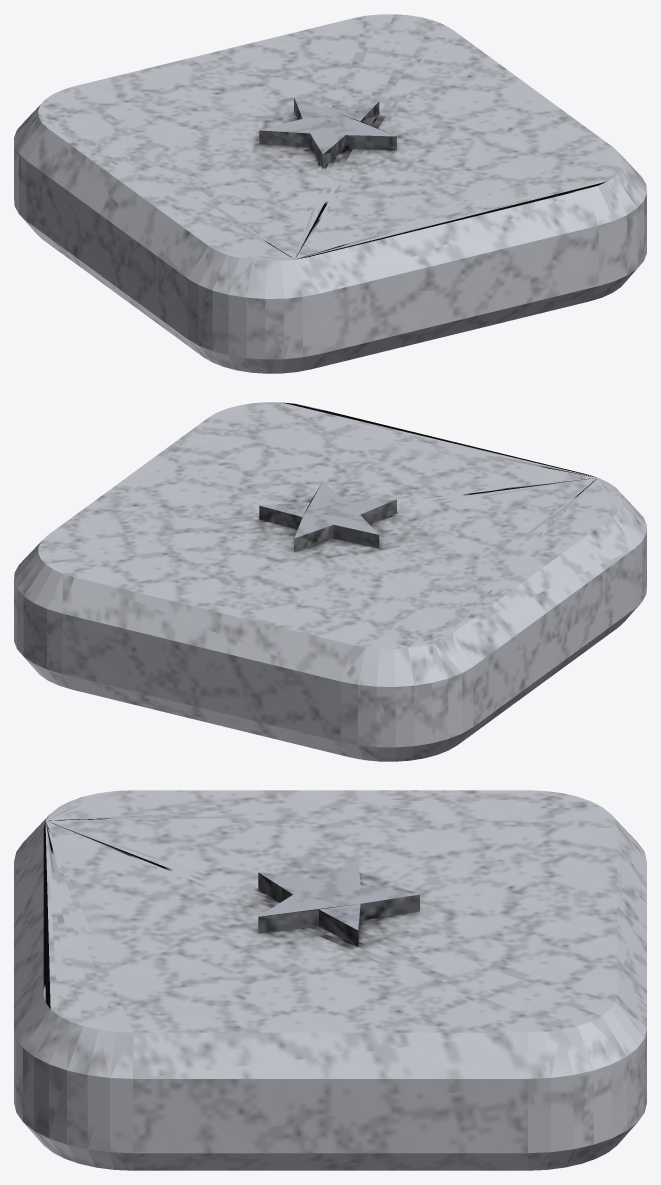
Rendered from Tile_Normal.glb.
3 renders of one model, top to bottom at view 1: azimuth 30°, elevation 25°; view 2: azimuth 150°, elevation 25°; view 3: azimuth 270°, elevation 25°, orthographic. The views are drawn at different scales.
Visible parts, largest first — view 1: Body, Motif_Star; view 2: Body, Motif_Star; view 3: Body, Motif_Star.
Boxes of the visible parts, x1,y1,x2,y2 form: Body: (14,14,646,373); Motif_Star: (259,97,396,167); Body: (14,402,646,761); Motif_Star: (259,481,396,552); Body: (14,790,646,1170); Motif_Star: (258,859,419,946).
Bounding box in the file's own units: 0.85 × 0.225 × 0.85.
Materials: 2 (2 with a texture image).
